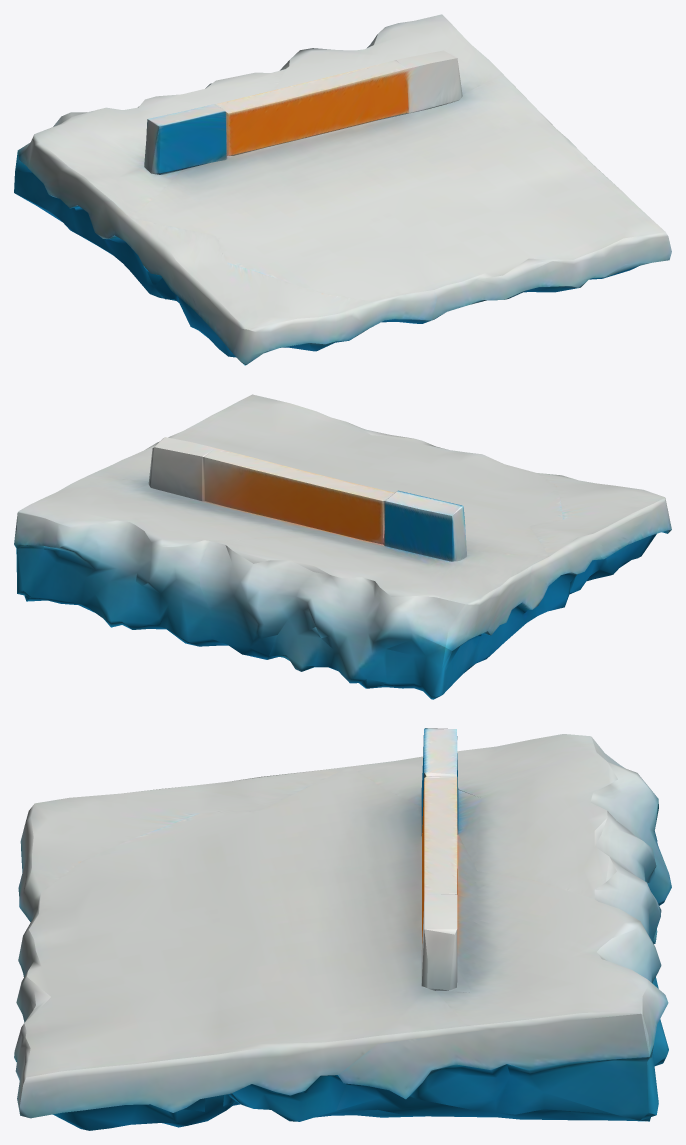
File: snowRamp.glb
The picture shows the model from 3 angles, top to bottom: view 1: azimuth 30°, elevation 25°; view 2: azimuth 150°, elevation 25°; view 3: azimuth 270°, elevation 25°; orthographic projection. The views are drawn at different scales.
Parts seen in each view (by area): view 1: model; view 2: model; view 3: model.
Part boxes in pixels (bbox=[...]): model: bbox=[14, 14, 671, 365]; model: bbox=[14, 394, 671, 699]; model: bbox=[14, 728, 671, 1130].
Size of the model in its own units: 1.9 by 0.5333 by 1.83.
1 material, 1 textured.
